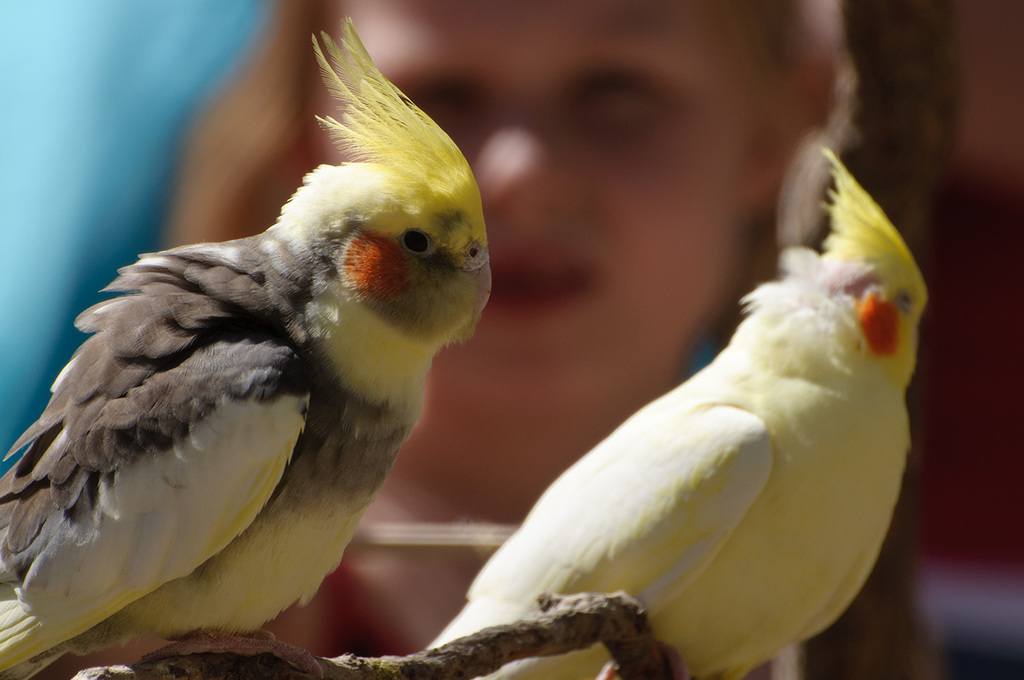face: (363, 0, 745, 339)
